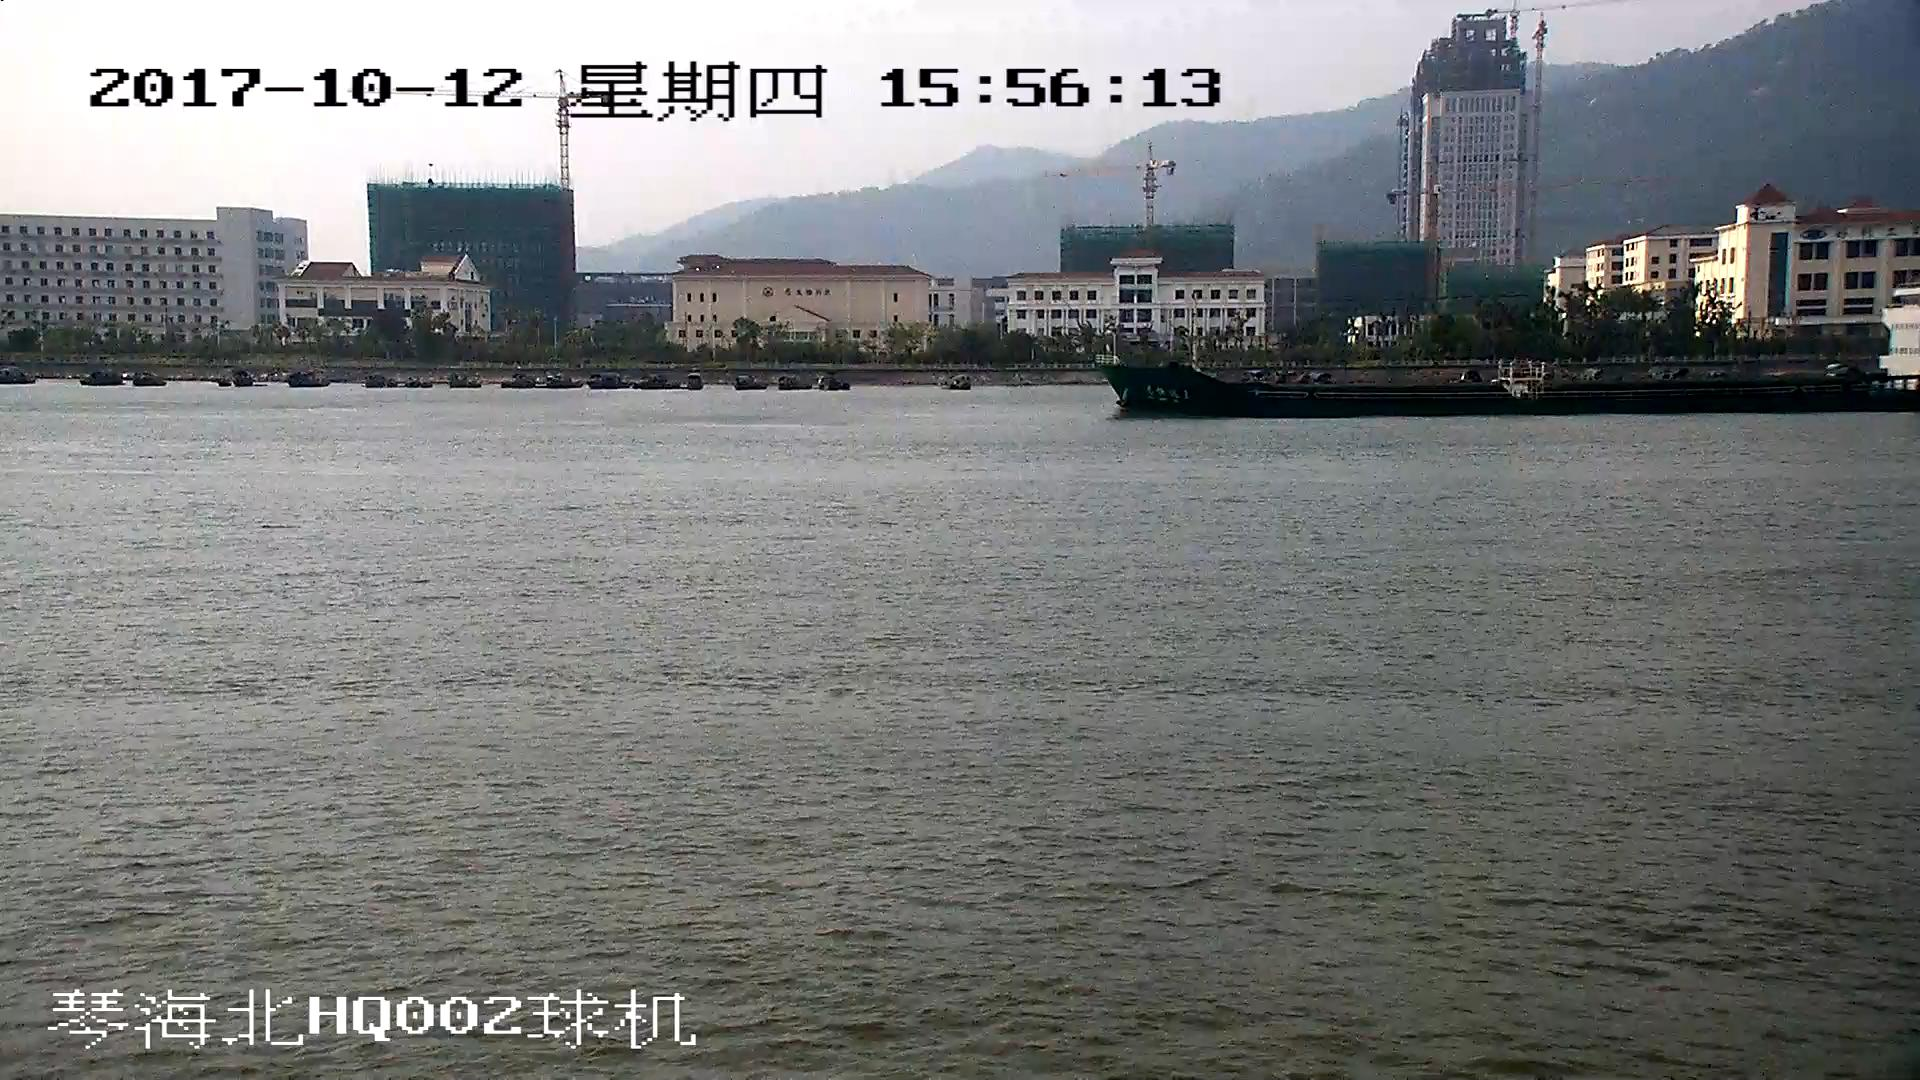general cargo ship: (1098, 294, 1920, 419)
